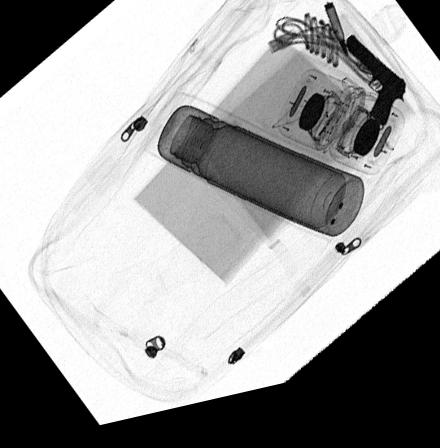Bullet: (324, 17, 348, 74)
Gun: (346, 48, 405, 143)
